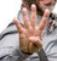right: (13, 4, 52, 54)
